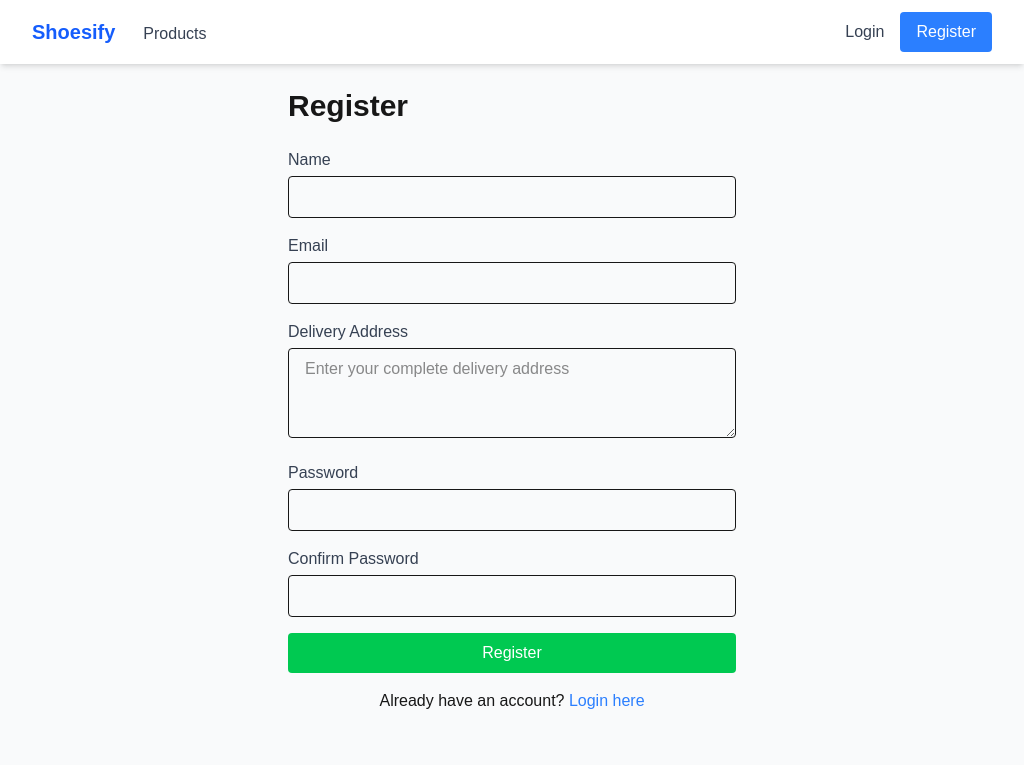
Scenario: Register Page › shows error when passwords don't match
The image size is (1024, 765).
Fill in all required fields
Step 1. Type "Test User" into the field labelled "Name" → (512, 197), box [288,176,736,218]
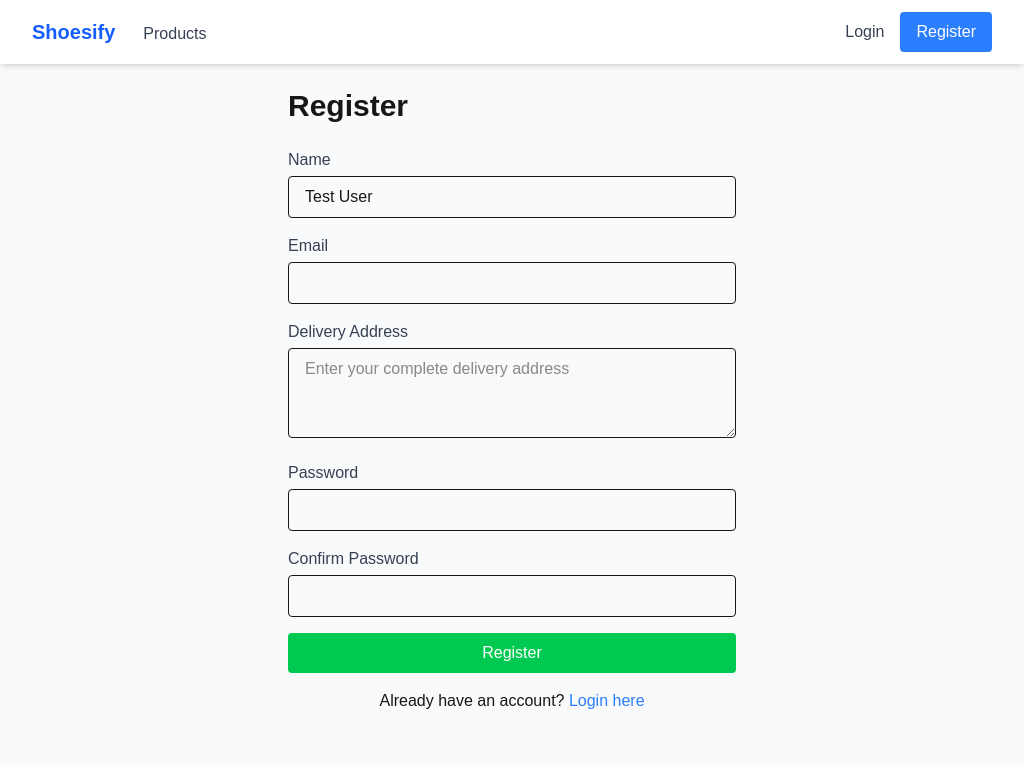
Step 2. Type "test@example.com" into the field labelled "Email" → (512, 283), box [288,262,736,304]
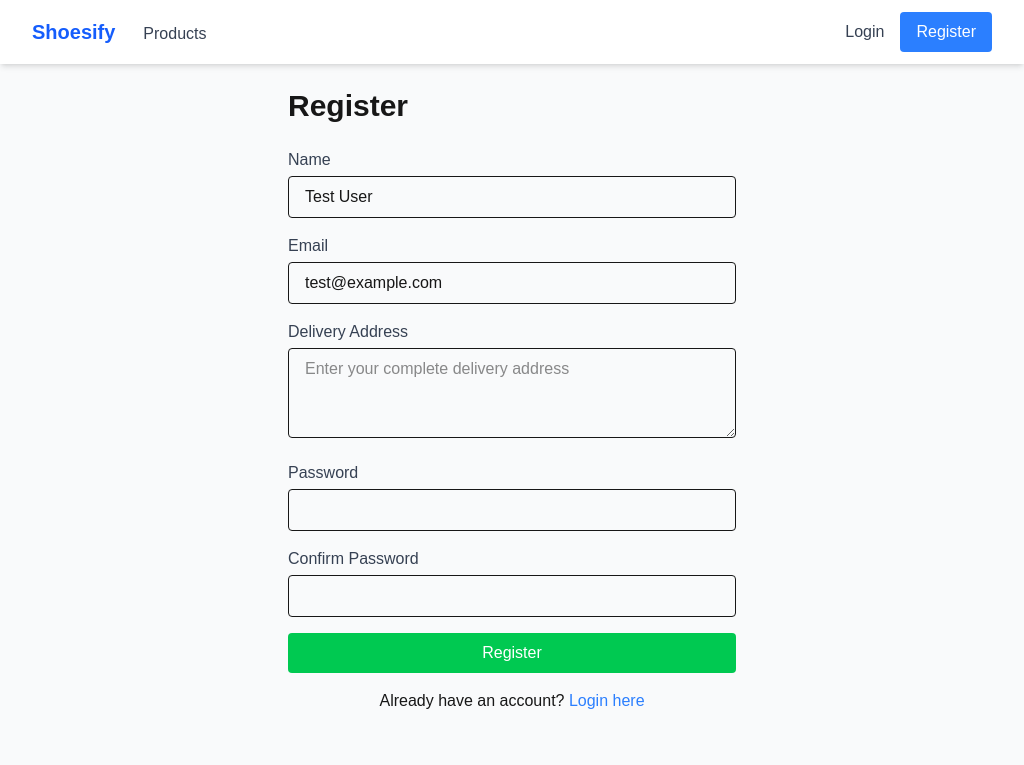
Step 3. Type "123 Test St" into the text box labelled "Delivery Address" → (512, 393), box [288,348,736,438]
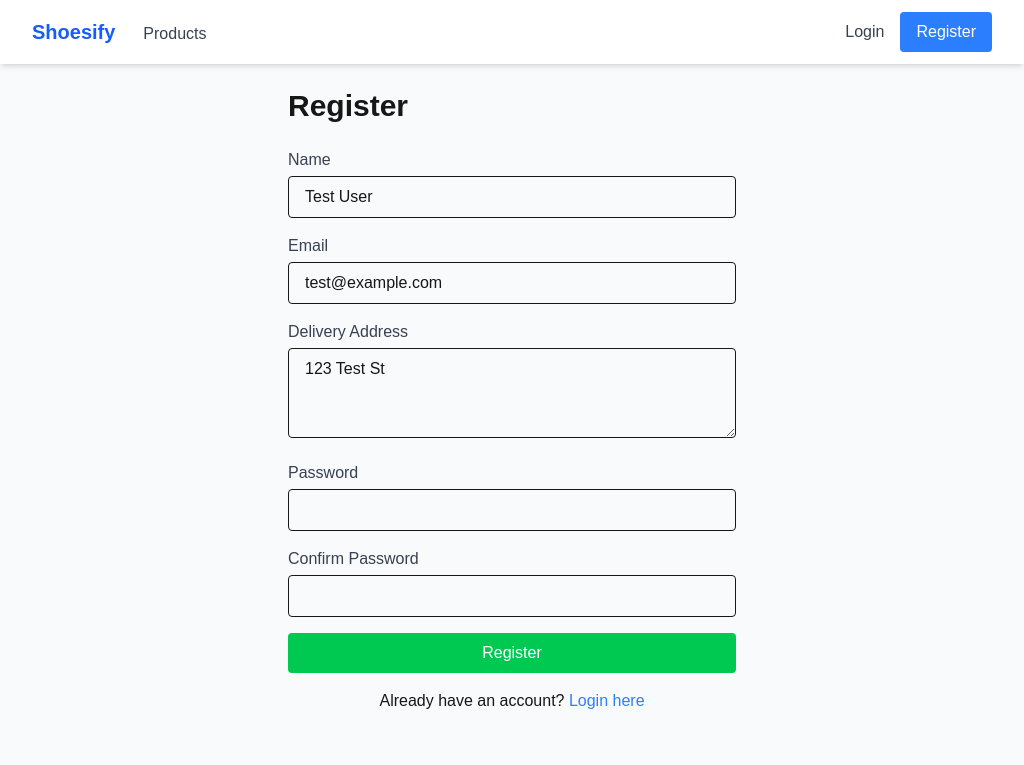
Step 4. Type "password123" into the password field labelled "Password" → (512, 510), box [288,489,736,531]
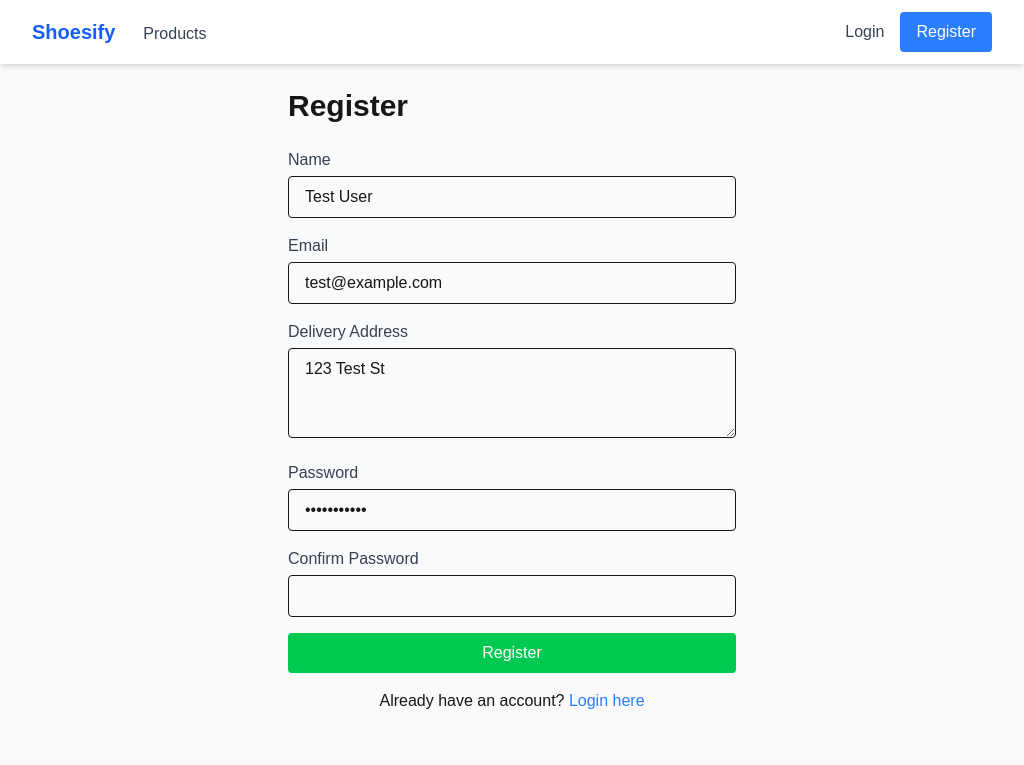
Step 5. Type "password456" into the password field labelled "Confirm Password" → (512, 596), box [288,575,736,617]
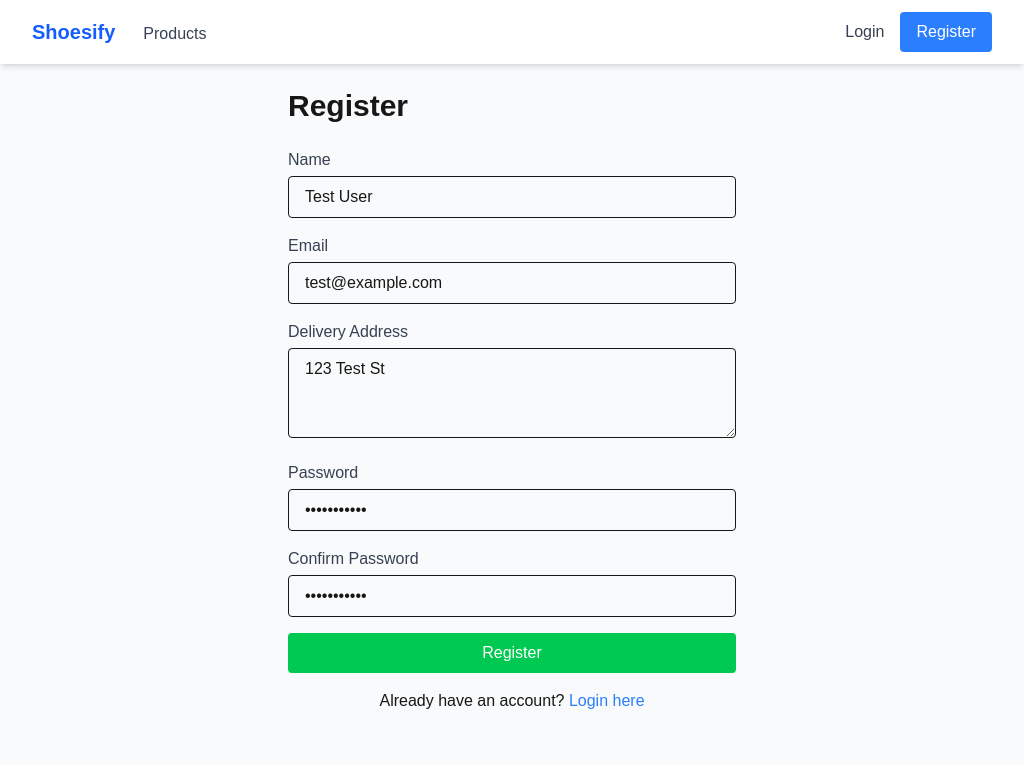
Step 6. Click the button "Register" → click(512, 653), box [288,633,736,673]
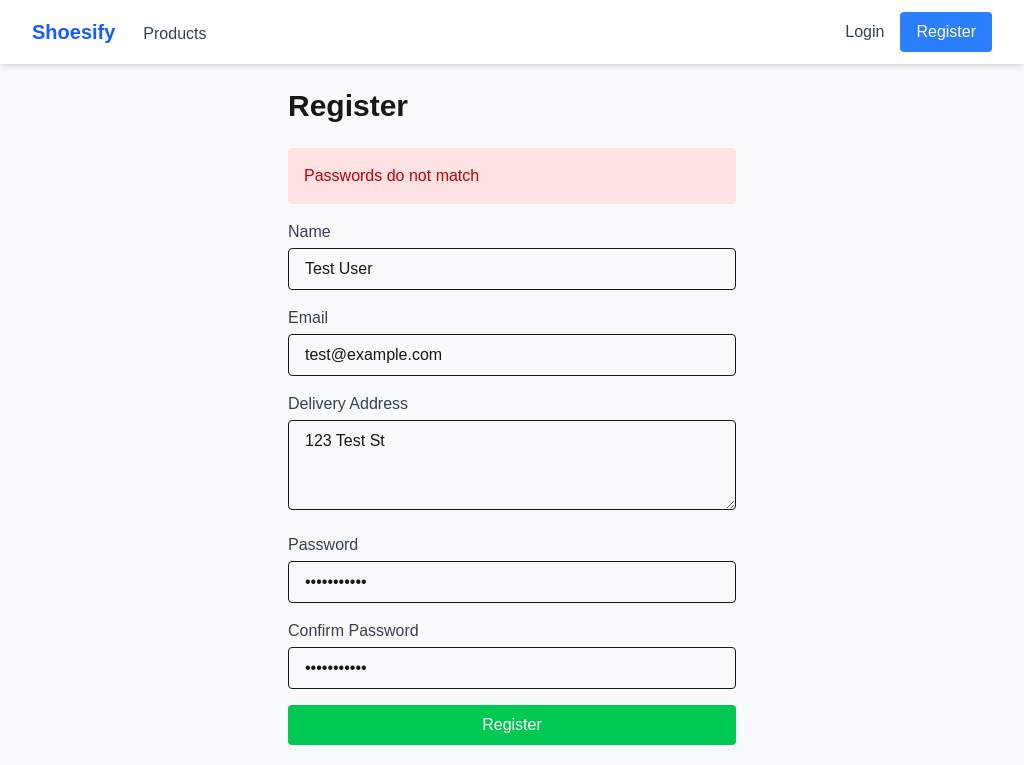
Check: the text "Passwords do not match" is shown, box [288,148,736,204]
